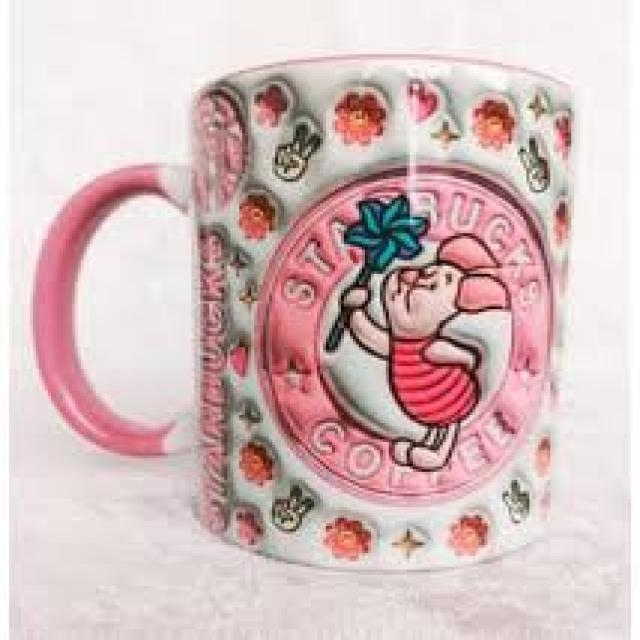taza: (31, 52, 574, 570)
